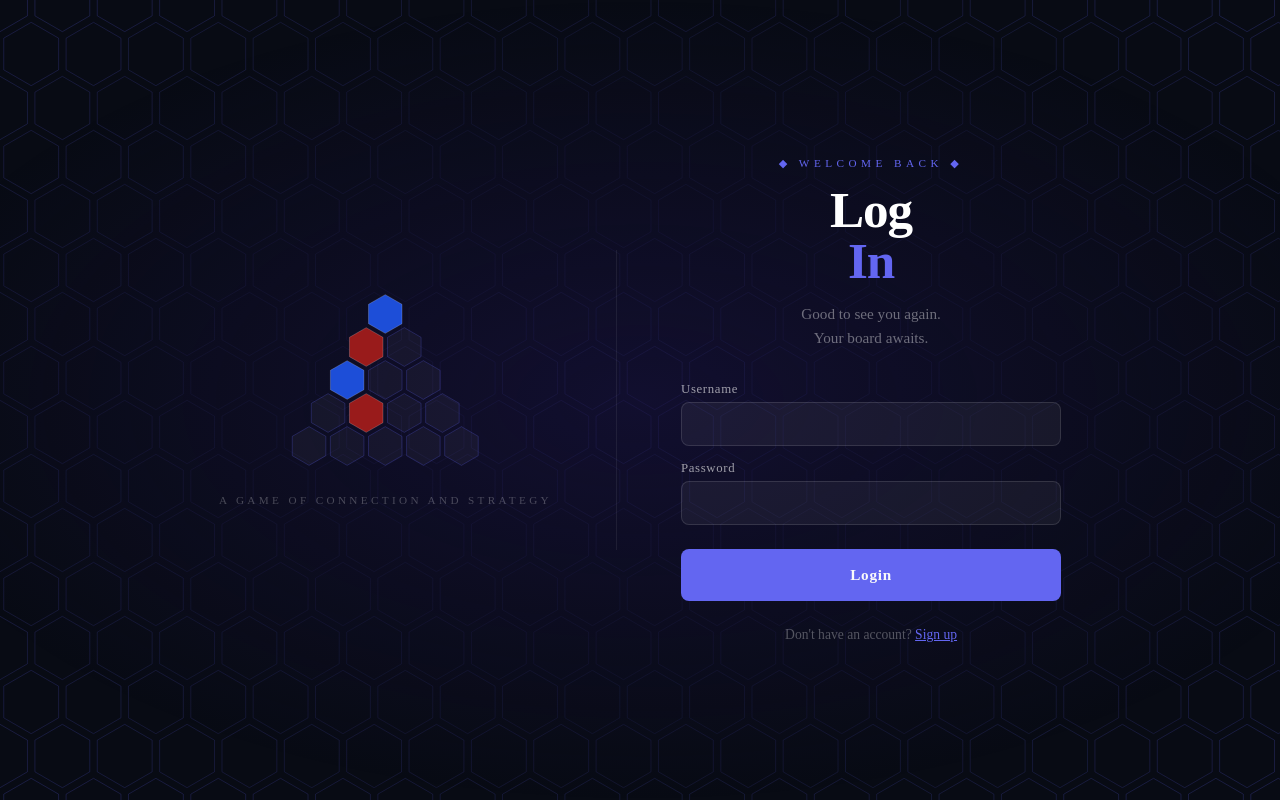
Test case: LoginForm › shows validation error when fields are empty
Click the button "Login".
click(871, 575)  # box [681, 549, 1061, 601]
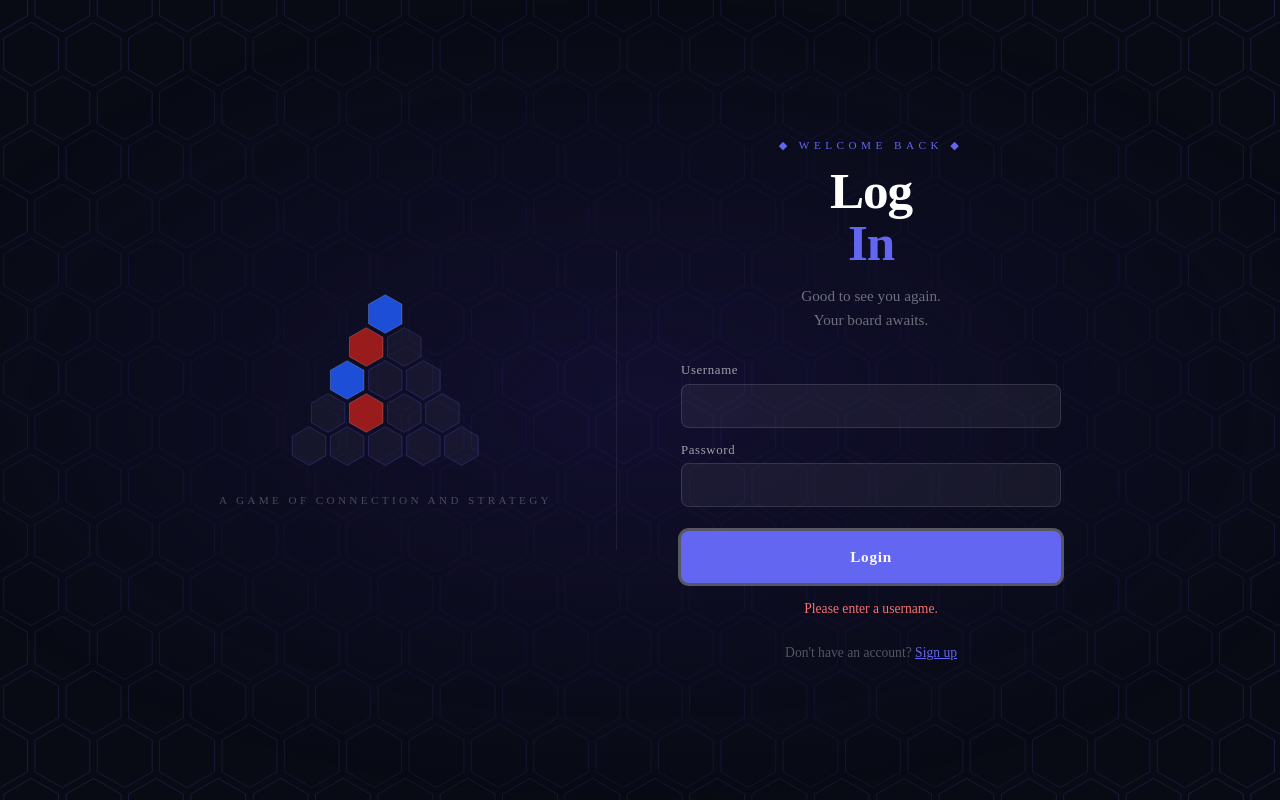
Expected: the text "Please enter a username." is shown, [804, 601, 938, 616]
